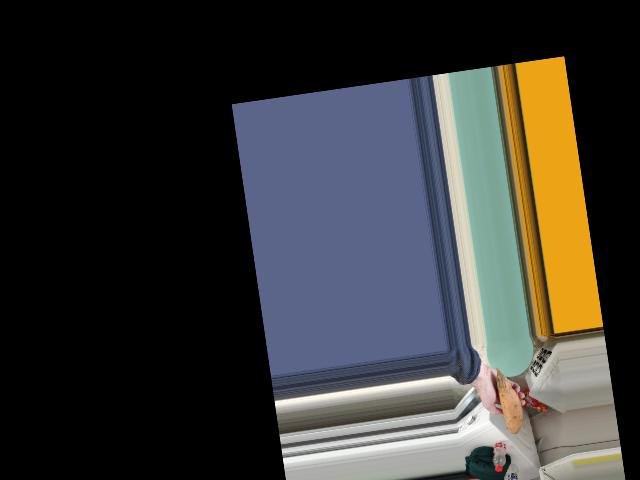sweet_potato: (493, 372, 524, 429)
